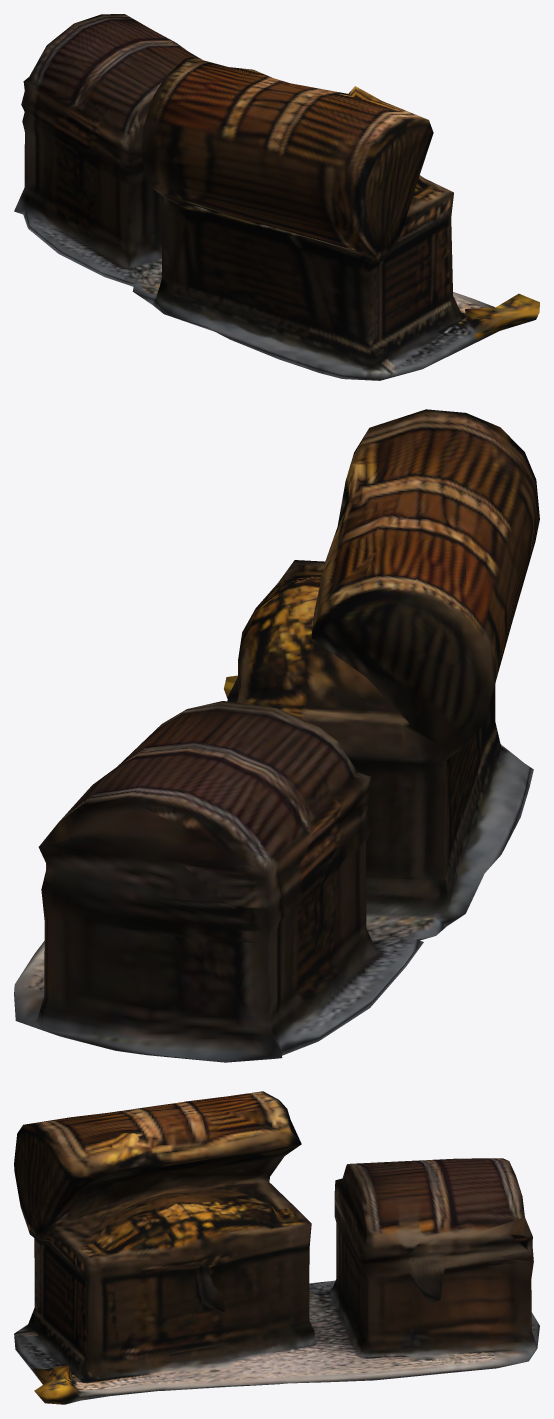
Rendered from DualChest.fbx.
3 views of the same model, one above another, from view 1: azimuth 30°, elevation 25°; view 2: azimuth 150°, elevation 25°; view 3: azimuth 270°, elevation 25° (orthographic). The views are drawn at different scales.
Visible parts, largest first — view 1: meshes[0]; view 2: meshes[0]; view 3: meshes[0].
Boxes of the visible parts, bbox=[...] form: meshes[0]: bbox=[14, 14, 539, 380]; meshes[0]: bbox=[14, 409, 539, 1062]; meshes[0]: bbox=[14, 1091, 539, 1404].
Bounding box in the file's own units: 16.54 × 13.07 × 28.09.
Materials: 1 (1 with a texture image).
